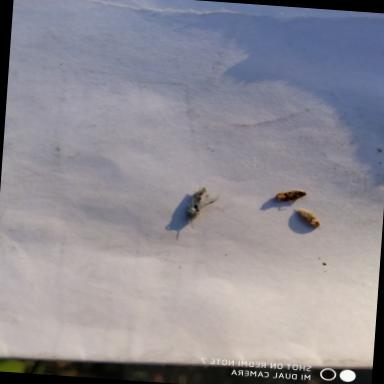pbw: (291, 205, 323, 228), (272, 186, 308, 206)
